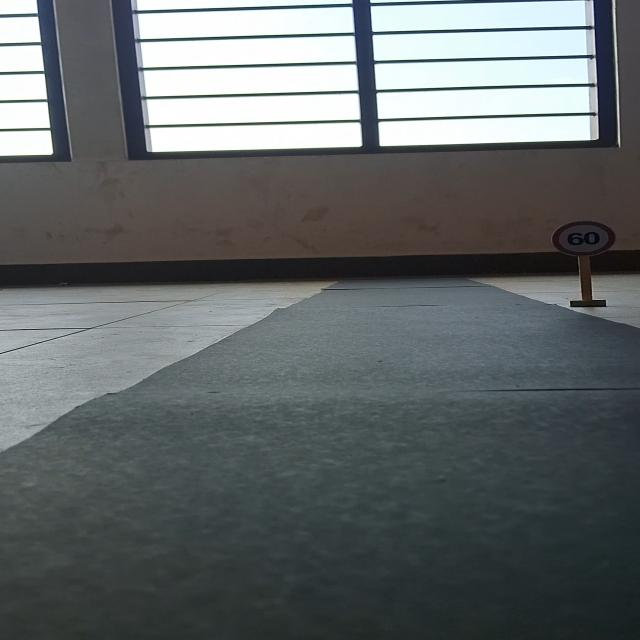Speed60: (554, 220, 616, 258)
